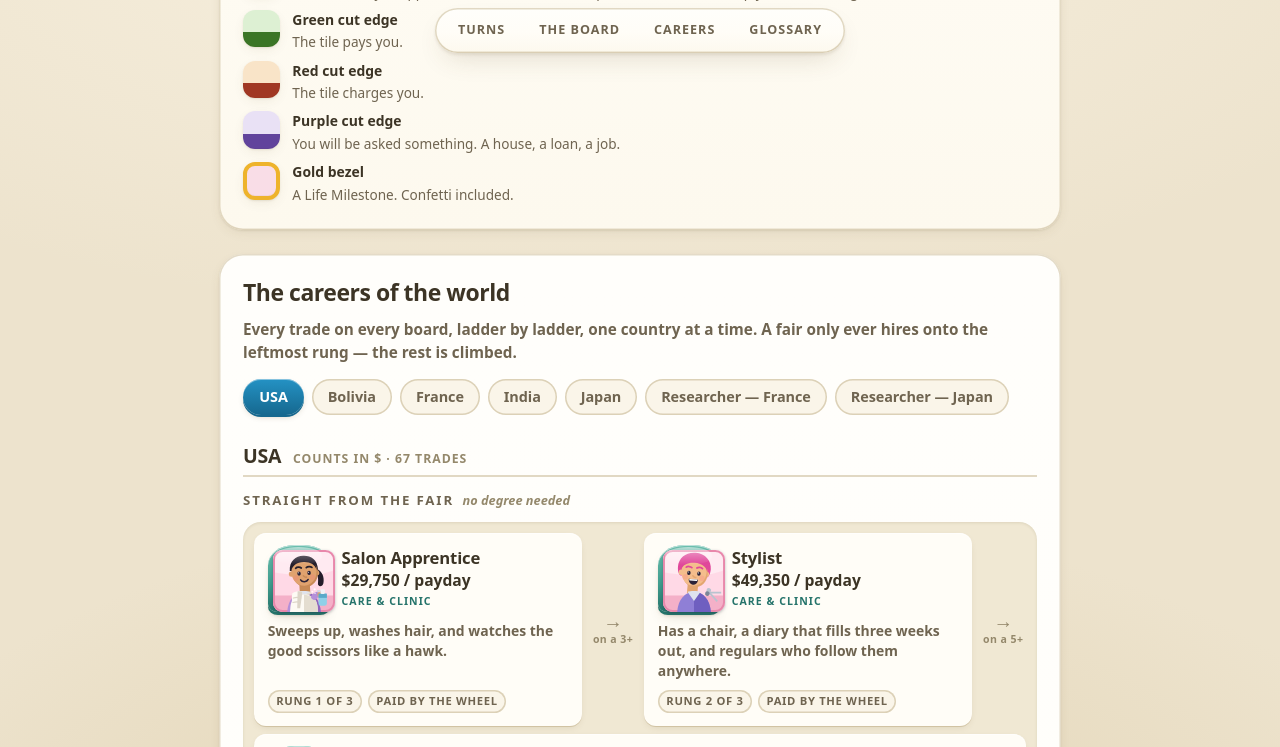
Test case: ManualScreen › shows one country's catalogue at a time — picking a tab swaps the page
(page scrolled)
Step 1. Click the tab "Bolivia" → coordinates (352, 397), box 312,379 -> 392,415
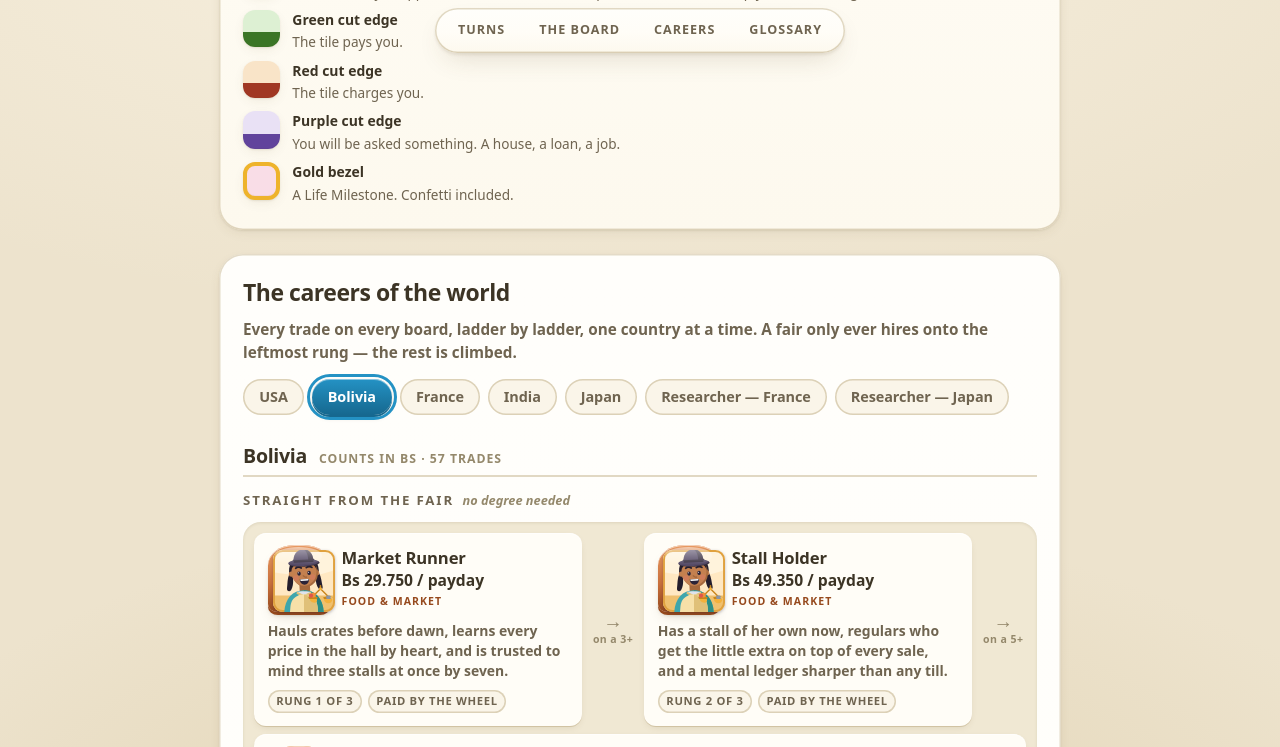
Expected: the heading "Bolivia" is shown, 243,441 -> 307,470
